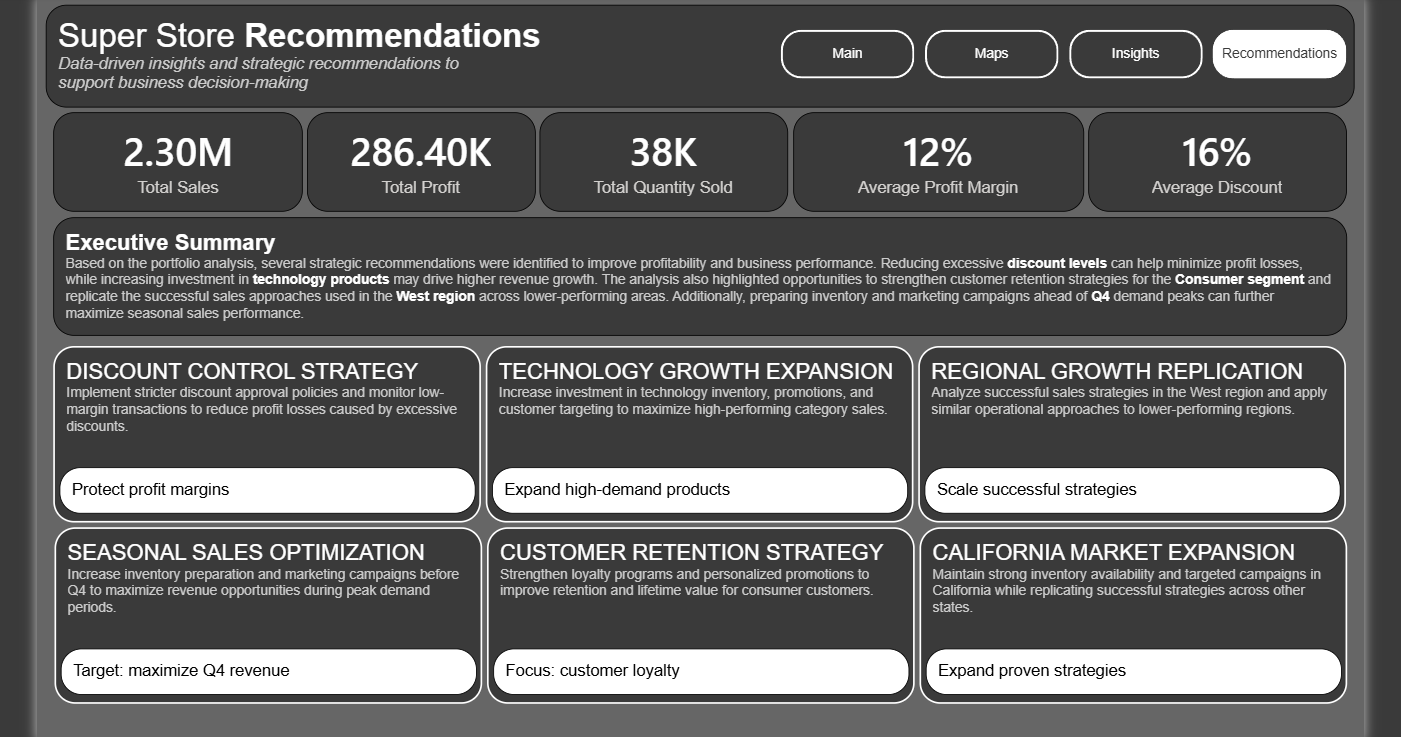

Layout of this report page (visuals, bound fields, positions):
{"tool":"powerbi","page":{"name":"Recommendations","canvas":[1280,720],"ordinal":3},"visuals":[{"type":"textbox","box":[8.4,8.4,1263.1,98.9],"z":0},{"type":"cardVisual","fields":{"Data":["Sum(Working Area.Sales)"]},"box":[16,112,241.1,96],"z":0,"group":"g1"},{"type":"pageNavigator","box":[717.8,32.6,546.5,47.1],"z":1000},{"type":"group","id":"g1","title":"Group 1","box":[16,112,1248,96],"z":2000},{"type":"cardVisual","fields":{"Data":["Sum(Working Area.Profit)"]},"box":[261.2,112,220.6,96],"z":2000,"group":"g1"},{"type":"cardVisual","fields":{"Data":["Sum(Working Area.Quantity)"]},"box":[485.9,112,239.7,96],"z":3000,"group":"g1"},{"type":"textbox","box":[15.7,213.5,1248.7,114.6],"z":3000},{"type":"cardVisual","fields":{"Data":["Avg(Working Area.Profit Margin)"]},"box":[729.7,112,280.8,96],"z":4000,"group":"g1"},{"type":"group","id":"g2","title":"Group 3","box":[15.7,338.1,1247.5,170.1],"z":4000},{"type":"group","id":"g3","title":"Group 2","box":[15.7,338.1,1247.5,170.1],"z":4000,"group":"g2"},{"type":"group","id":"g4","title":"Group 2","box":[16.9,512.7,1247.5,170.1],"z":4000,"group":"g5"},{"type":"cardVisual","fields":{"Data":["Avg(Working Area.Discount)"]},"box":[1014.7,112,249.3,96],"z":5000,"group":"g1"},{"type":"textbox","box":[15.7,338.1,412.6,170.1],"z":5000,"group":"g3"},{"type":"textbox","box":[21.7,455.1,401.7,44.6],"z":5000,"group":"g2"},{"type":"group","id":"g5","title":"Group 3","box":[16.9,512.7,1247.5,170.1],"z":5000},{"type":"textbox","box":[16.9,512.7,412.6,170.1],"z":5000,"group":"g4"},{"type":"textbox","box":[22.9,629.7,401.7,44.6],"z":5000,"group":"g5"},{"type":"textbox","box":[433.1,338.1,412.6,170.1],"z":6000,"group":"g3"},{"type":"textbox","box":[439.2,455.1,401.7,44.6],"z":6000,"group":"g2"},{"type":"textbox","box":[434.3,512.7,412.6,170.1],"z":6000,"group":"g4"},{"type":"textbox","box":[440.4,629.7,401.7,44.6],"z":6000,"group":"g5"},{"type":"textbox","box":[850.6,338.1,412.6,170.1],"z":7000,"group":"g3"},{"type":"textbox","box":[856.6,455.1,401.7,44.6],"z":7000,"group":"g2"},{"type":"textbox","box":[851.8,512.7,412.6,170.1],"z":7000,"group":"g4"},{"type":"textbox","box":[857.8,629.7,401.7,44.6],"z":7000,"group":"g5"}]}

Visuals, with their boxes on the page's 1280x720 design canvas (x1, y1, x2, y2). These are canvas units, not pixel positions in the 1401x737 screenshot, which may show the page scaled, cropped or inside an application window:
textbox: BBox(8, 8, 1272, 107)
cardVisual - Sum(Working Area.Sales): BBox(16, 112, 257, 208)
pageNavigator: BBox(718, 33, 1264, 80)
"Group 1" group: BBox(16, 112, 1264, 208)
cardVisual - Sum(Working Area.Profit): BBox(261, 112, 482, 208)
cardVisual - Sum(Working Area.Quantity): BBox(486, 112, 726, 208)
textbox: BBox(16, 214, 1264, 328)
cardVisual - Avg(Working Area.Profit Margin): BBox(730, 112, 1010, 208)
"Group 3" group: BBox(16, 338, 1263, 508)
"Group 2" group: BBox(16, 338, 1263, 508)
"Group 2" group: BBox(17, 513, 1264, 683)
cardVisual - Avg(Working Area.Discount): BBox(1015, 112, 1264, 208)
textbox: BBox(16, 338, 428, 508)
textbox: BBox(22, 455, 423, 500)
"Group 3" group: BBox(17, 513, 1264, 683)
textbox: BBox(17, 513, 430, 683)
textbox: BBox(23, 630, 425, 674)
textbox: BBox(433, 338, 846, 508)
textbox: BBox(439, 455, 841, 500)
textbox: BBox(434, 513, 847, 683)
textbox: BBox(440, 630, 842, 674)
textbox: BBox(851, 338, 1263, 508)
textbox: BBox(857, 455, 1258, 500)
textbox: BBox(852, 513, 1264, 683)
textbox: BBox(858, 630, 1260, 674)
